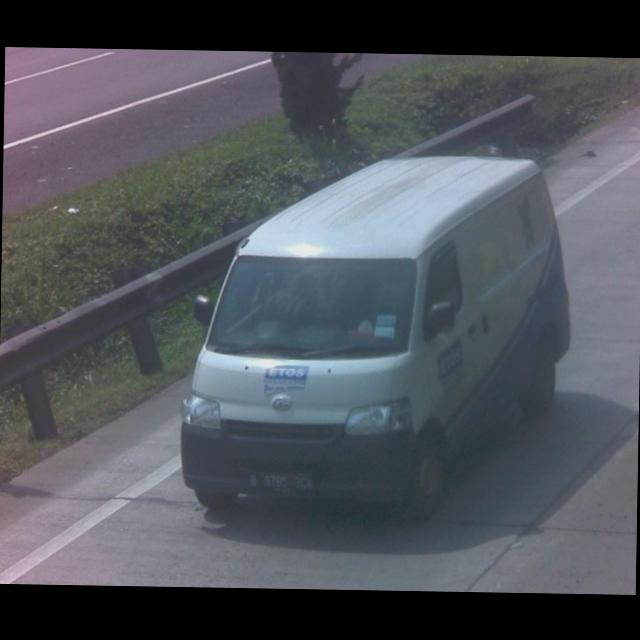plate: (244, 469, 314, 494)
